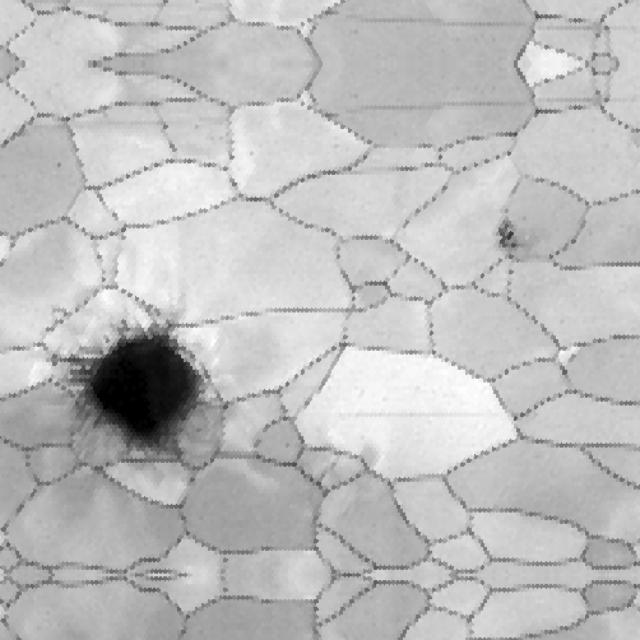good_void: (45, 313, 222, 470), (490, 208, 530, 258), (247, 149, 255, 159), (193, 122, 200, 131), (56, 162, 62, 171), (193, 0, 200, 7)
